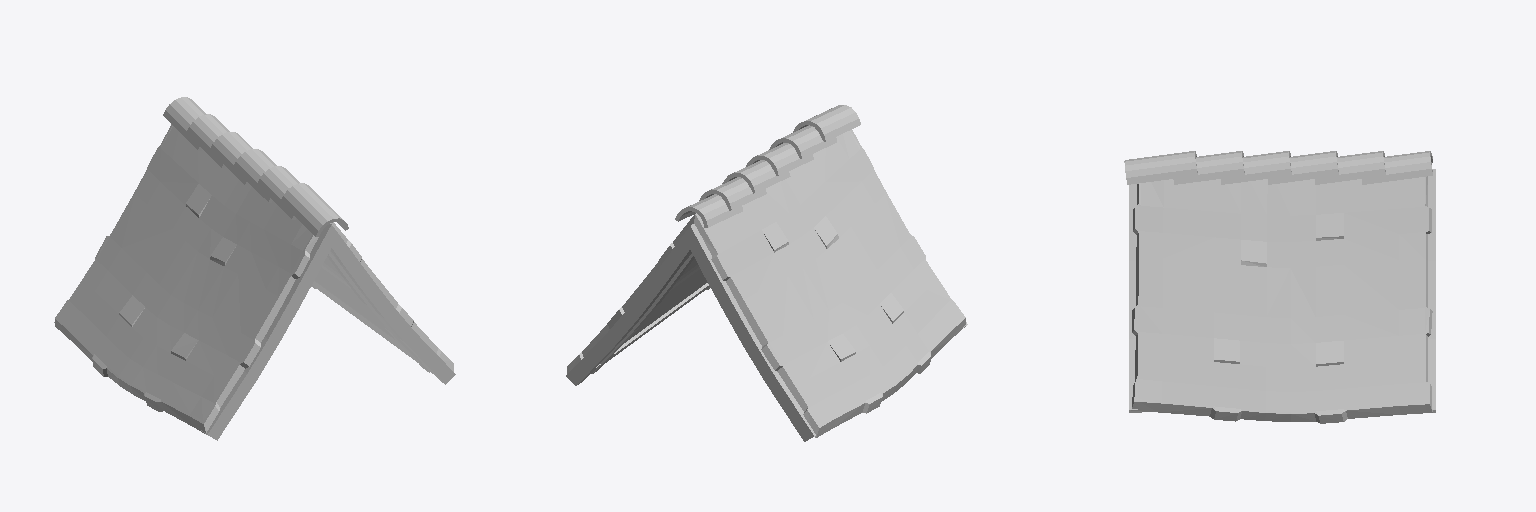
File: Roof_FlatTiles_4x4.obj
The picture shows the model from 3 angles: view 1: azimuth 30°, elevation 25°; view 2: azimuth 150°, elevation 25°; view 3: azimuth 270°, elevation 25°; orthographic projection.
Visible parts, largest first — view 1: Roof_FlatTiles_4x4; view 2: Roof_FlatTiles_4x4; view 3: Roof_FlatTiles_4x4.
Part boxes in pixels (bbox=[...]): Roof_FlatTiles_4x4: bbox=[54, 97, 455, 440]; Roof_FlatTiles_4x4: bbox=[566, 105, 967, 441]; Roof_FlatTiles_4x4: bbox=[1124, 151, 1435, 423].
Size of the model in its own units: 5.53 by 4.09 by 5.56.